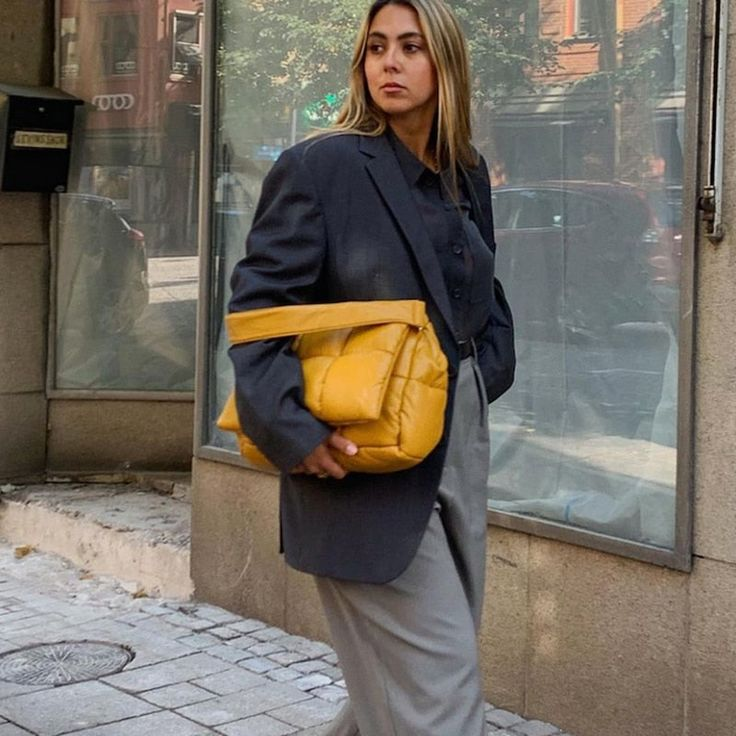nylon: (217, 298, 451, 475)
